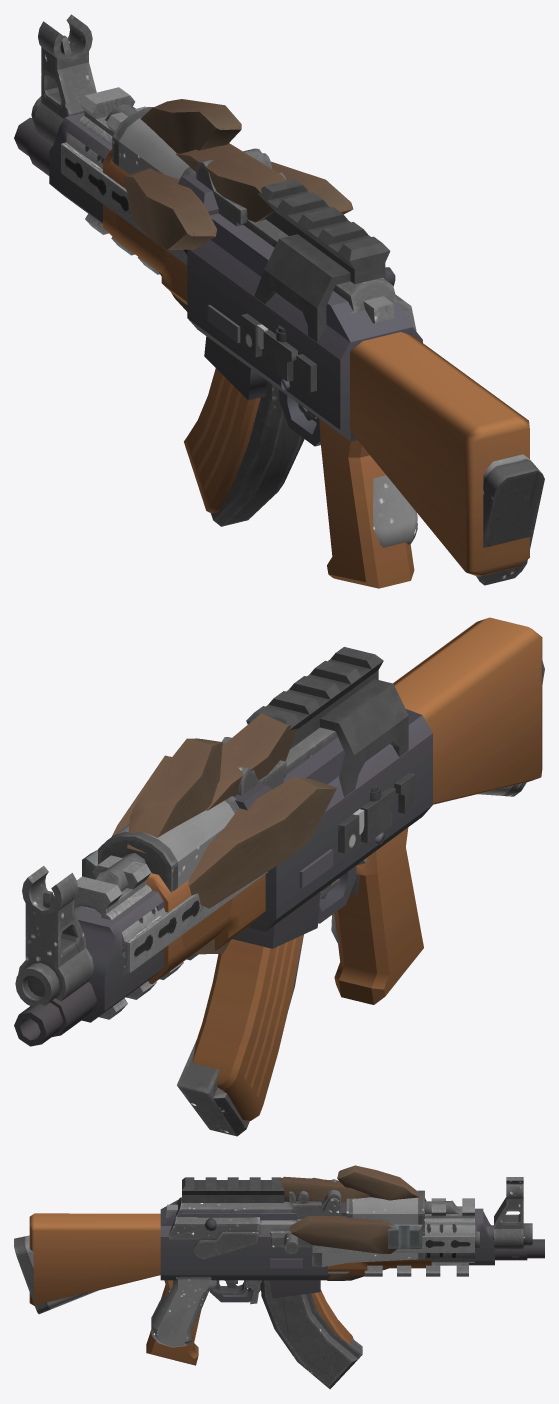
The model's file is IG_Gun_AK47_Fire.fbx.
The picture shows the model from 3 angles, top to bottom: view 1: azimuth 30°, elevation 25°; view 2: azimuth 150°, elevation 25°; view 3: azimuth 270°, elevation 25°; orthographic projection. The views are drawn at different scales.
Parts seen in each view (by area): view 1: Rifle03, WPN_AK47, ShowIf_Scope, ShowIf_Grip, Pfb_Stone_01_6_Terrain_2, HideIf_Stock, Pfb_Stone_01_6_Terrain_1, Pfb_Stone_01_6_Terrain_4, HideIf_Grip, Pfb_Stone_01_6_Terrain_3; view 2: Rifle03, ShowIf_Scope, WPN_AK47, Pfb_Stone_01_6_Terrain_2, ShowIf_Grip, HideIf_Grip, Pfb_Stone_01_6_Terrain_1, Pfb_Stone_01_6_Terrain_4; view 3: Rifle03, WPN_AK47, ShowIf_Grip, HideIf_Grip, Pfb_Stone_01_6_Terrain_3, ShowIf_Scope, Pfb_Stone_01_6_Terrain_1, Pfb_Stone_01_6_Terrain_4, HideIf_Stock, ShowIf_Tec.
Boxes of the visible parts, x1=… form: Rifle03: x1=14, y1=113, x2=529, y2=588; WPN_AK47: x1=31, y1=14, x2=417, y2=547; ShowIf_Scope: x1=241, y1=179, x2=390, y2=392; ShowIf_Grip: x1=61, y1=87, x2=187, y2=274; Pfb_Stone_01_6_Terrain_2: x1=123, y1=168, x2=217, y2=249; HideIf_Stock: x1=476, y1=454, x2=544, y2=585; Pfb_Stone_01_6_Terrain_1: x1=140, y1=99, x2=241, y2=153; Pfb_Stone_01_6_Terrain_4: x1=176, y1=143, x2=286, y2=222; HideIf_Grip: x1=105, y1=104, x2=196, y2=179; Pfb_Stone_01_6_Terrain_3: x1=271, y1=161, x2=353, y2=214; Rifle03: x1=14, y1=617, x2=542, y2=1121; ShowIf_Scope: x1=246, y1=647, x2=415, y2=853; WPN_AK47: x1=15, y1=727, x2=366, y2=1136; Pfb_Stone_01_6_Terrain_2: x1=188, y1=776, x2=336, y2=908; ShowIf_Grip: x1=74, y1=855, x2=267, y2=1019; HideIf_Grip: x1=85, y1=796, x2=239, y2=952; Pfb_Stone_01_6_Terrain_1: x1=127, y1=738, x2=222, y2=853; Pfb_Stone_01_6_Terrain_4: x1=206, y1=713, x2=297, y2=810; Rifle03: x1=29, y1=1199, x2=544, y2=1365; WPN_AK47: x1=151, y1=1177, x2=532, y2=1389; ShowIf_Grip: x1=312, y1=1198, x2=474, y2=1276; HideIf_Grip: x1=312, y1=1190, x2=479, y2=1267; Pfb_Stone_01_6_Terrain_3: x1=290, y1=1216, x2=398, y2=1253; ShowIf_Scope: x1=182, y1=1177, x2=284, y2=1202; Pfb_Stone_01_6_Terrain_1: x1=337, y1=1165, x2=426, y2=1201; Pfb_Stone_01_6_Terrain_4: x1=280, y1=1176, x2=370, y2=1202; HideIf_Stock: x1=14, y1=1235, x2=99, y2=1314; ShowIf_Tec: x1=388, y1=1224, x2=422, y2=1248.
Bounding box in the file's own units: 0.2149 × 0.4992 × 1.1.
